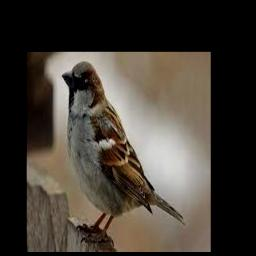Sparrow: (62, 62, 185, 245)
